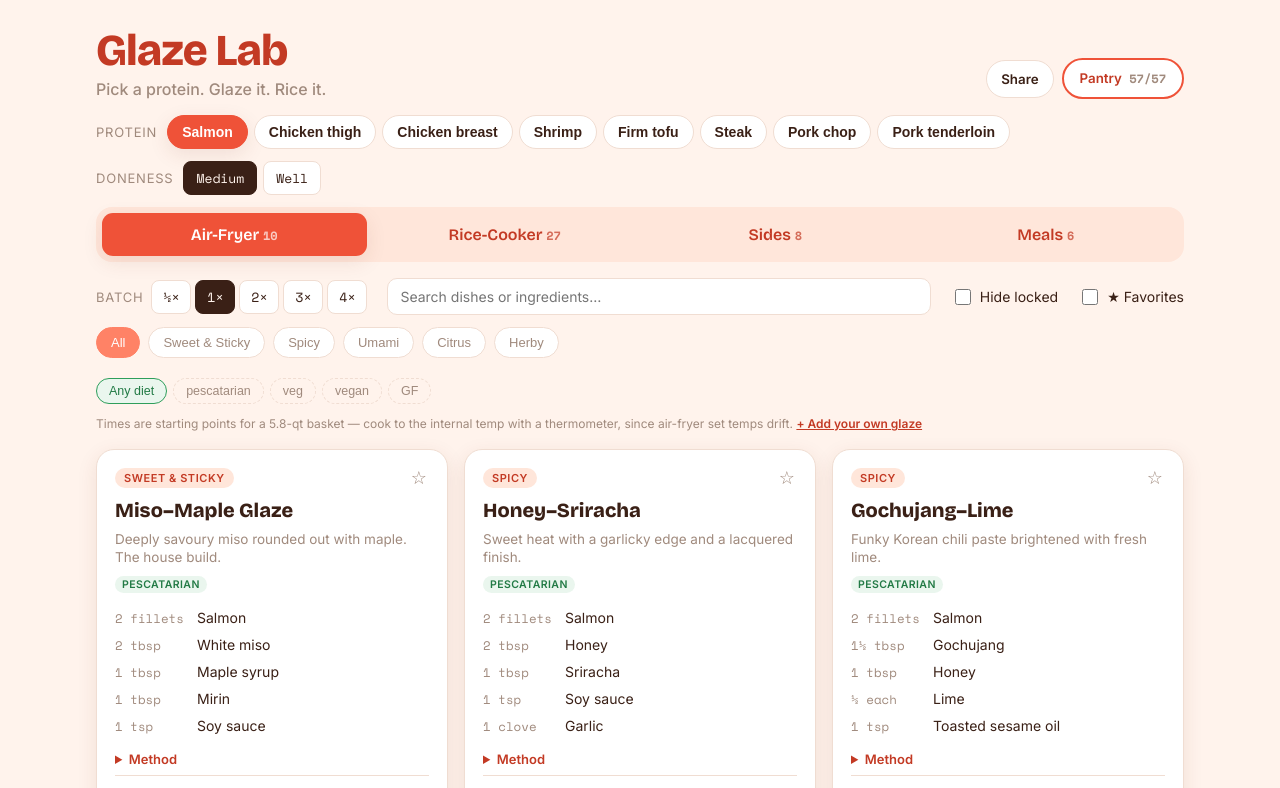
Test: Glaze Lab app › rescales ingredient amounts with the batch selector
Click the button "2×": (259, 296) x1=239 y1=280 x2=279 y2=314
(page scrolled)
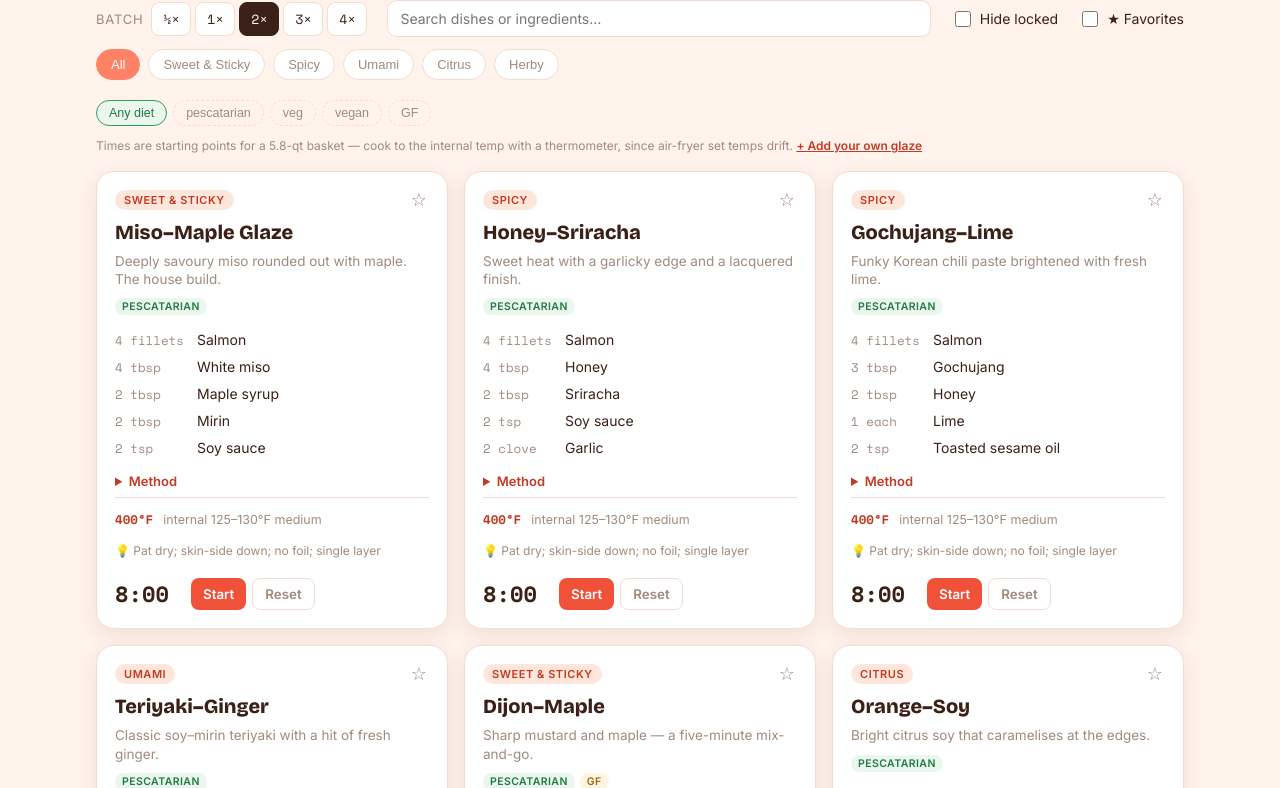
Check: the text "4 tbsp" is shown, box x1=96 y1=171 x2=448 y2=629
